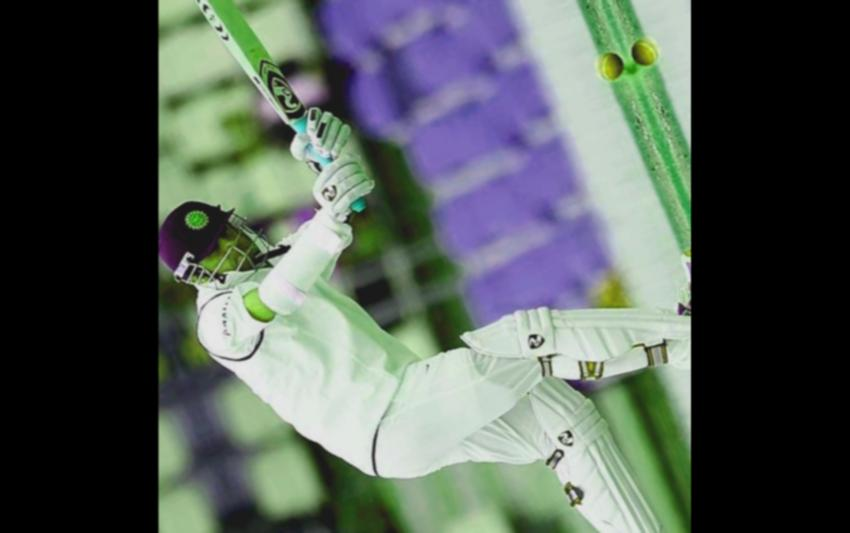batsman: (163, 93, 691, 533)
